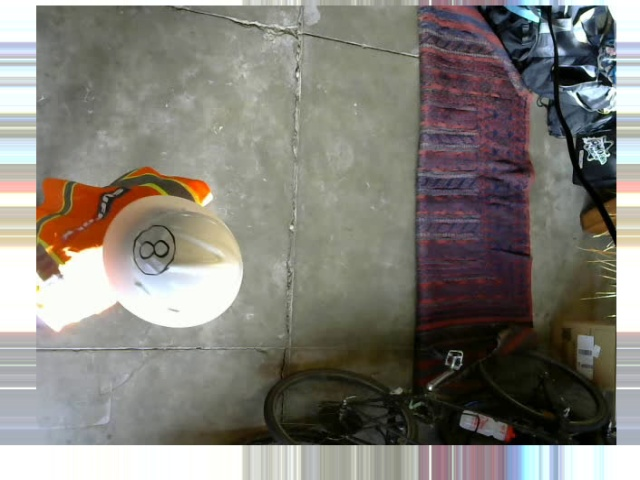eight: (134, 223, 176, 276)
